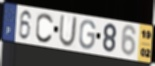6: (120, 24, 139, 59), (19, 9, 32, 41)
8: (102, 22, 118, 54)
C: (35, 12, 55, 45)
G: (78, 19, 97, 51)
U: (58, 14, 78, 49)
